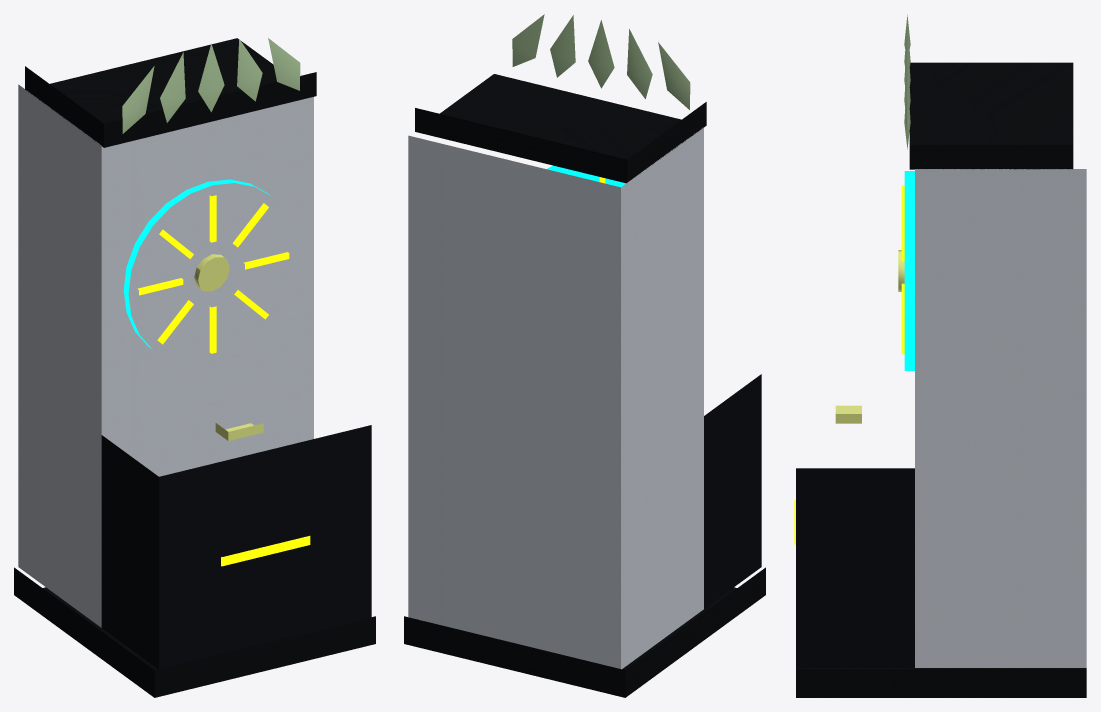
File: tt_arc_redemption.glb
3 views of the same model, side by side, from view 1: azimuth 30°, elevation 25°; view 2: azimuth 150°, elevation 25°; view 3: azimuth 270°, elevation 25° (orthographic). The views are drawn at different scales.
Visible parts, largest first — view 1: Red_Body, Red_Ramp, Red_Crest, Red_Plinth, Crest_Leaves, Red_Spokes, Red_Wheel, Red_Hub, Ticket_Slot, Red_Button; view 2: Red_Body, Red_Crest, Red_Ramp, Red_Plinth, Crest_Leaves; view 3: Red_Body, Red_Ramp, Red_Crest, Red_Plinth, Red_Wheel, Crest_Leaves, Red_Spokes, Red_Button.
Part boxes in pixels (left/top/right/bottom): Red_Body: left=18, top=84, right=313, bottom=627; Red_Ramp: left=101, top=425, right=371, bottom=669; Red_Crest: left=25, top=38, right=316, bottom=147; Red_Plinth: left=14, top=567, right=375, bottom=697; Crest_Leaves: left=122, top=38, right=300, bottom=133; Red_Spokes: left=137, top=195, right=289, bottom=353; Red_Wheel: left=123, top=179, right=270, bottom=349; Red_Hub: left=194, top=254, right=229, bottom=291; Ticket_Slot: left=221, top=536, right=310, bottom=566; Red_Button: left=215, top=423, right=263, bottom=440; Red_Body: left=408, top=127, right=703, bottom=669; Red_Crest: left=415, top=74, right=706, bottom=183; Red_Ramp: left=704, top=374, right=761, bottom=608; Red_Plinth: left=404, top=567, right=765, bottom=697; Crest_Leaves: left=512, top=14, right=690, bottom=109; Red_Body: left=915, top=169, right=1086, bottom=667; Red_Ramp: left=796, top=468, right=914, bottom=667; Red_Crest: left=909, top=62, right=1073, bottom=169; Red_Plinth: left=796, top=668, right=1086, bottom=697; Red_Wheel: left=904, top=171, right=914, bottom=370; Crest_Leaves: left=904, top=14, right=910, bottom=149; Red_Spokes: left=901, top=185, right=904, bottom=354; Red_Button: left=835, top=405, right=861, bottom=423.
Size of what is drawn, in the model's own units: 1 by 2.54 by 1.11.
7 materials, 3 textured.
